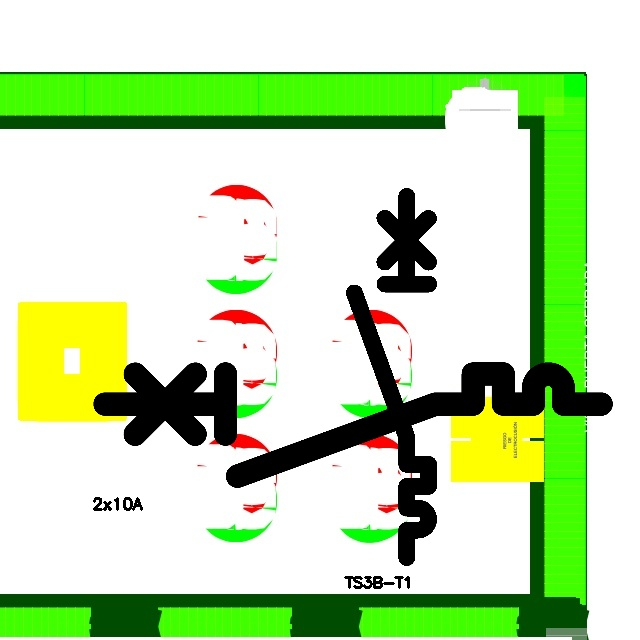interruptor_termomagnetico: (92, 361, 614, 488), (345, 187, 438, 567)
